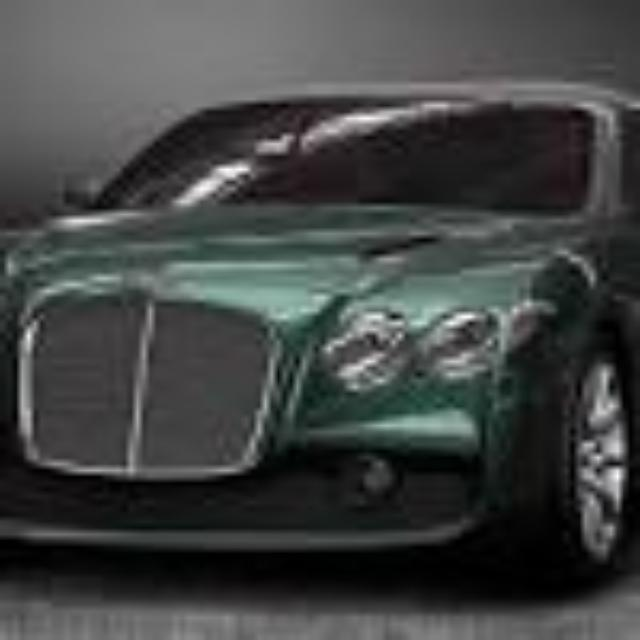bentley: (2, 82, 640, 592)
